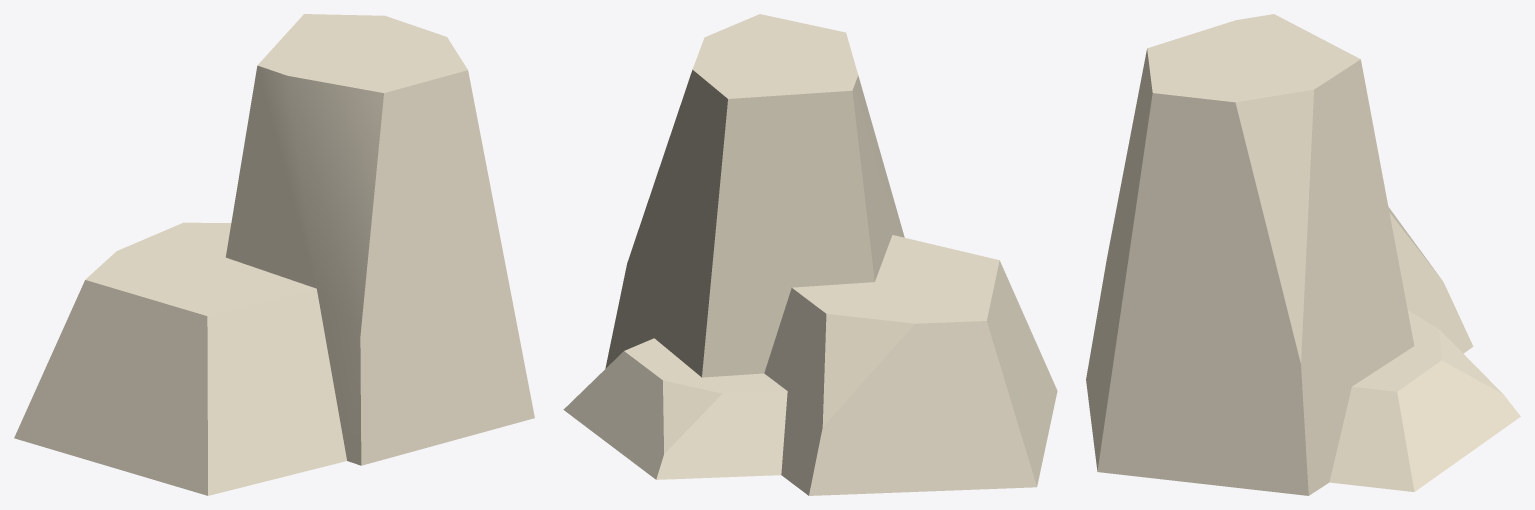
The model's file is Stone 1.fbx.
The picture shows the model from 3 angles, left to right: view 1: azimuth 30°, elevation 25°; view 2: azimuth 150°, elevation 25°; view 3: azimuth 270°, elevation 25°; orthographic projection. The views are drawn at different scales.
Visible parts, largest first — view 1: rockA; view 2: rockA; view 3: rockA.
Boxes of the visible parts, bbox=[...] form: rockA: bbox=[14, 14, 534, 495]; rockA: bbox=[563, 14, 1057, 495]; rockA: bbox=[1086, 14, 1520, 495].
Size of the model in its own units: 2.66 by 1.88 by 2.07.
